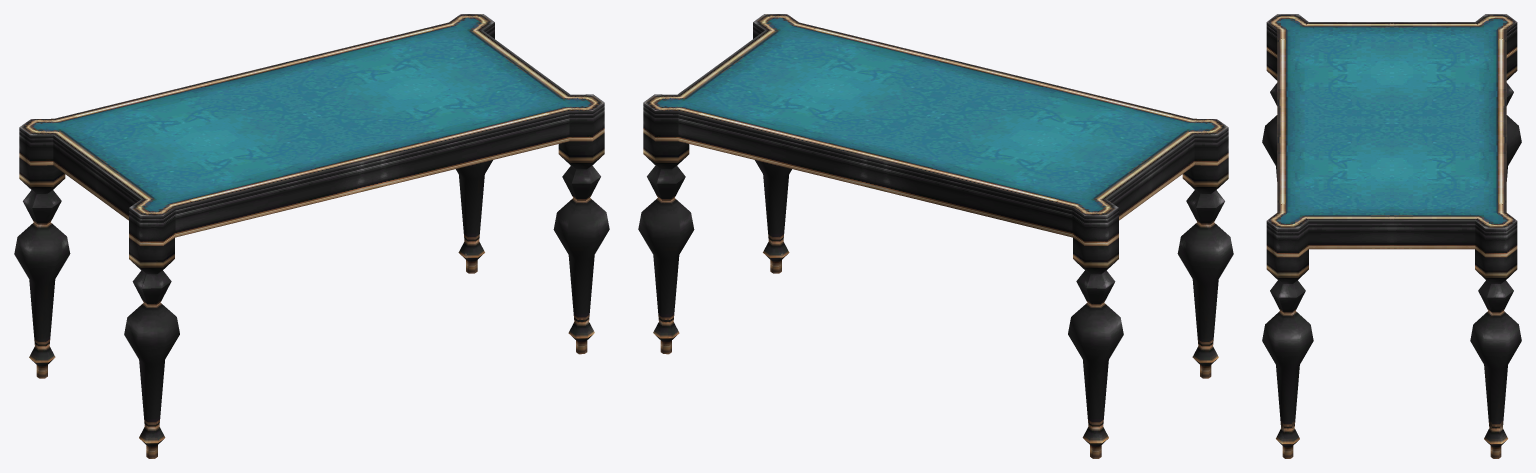
Rendered from furni_0200306_02.FBX.
3 views of the same model, side by side, from view 1: azimuth 30°, elevation 25°; view 2: azimuth 150°, elevation 25°; view 3: azimuth 270°, elevation 25° (orthographic). The views are drawn at different scales.
Visible parts, largest first — view 1: furni_0200306_02; view 2: furni_0200306_02; view 3: furni_0200306_02.
Part boxes in pixels (left/top/right/bottom): furni_0200306_02: left=14, top=14, right=609, bottom=458; furni_0200306_02: left=638, top=14, right=1233, bottom=458; furni_0200306_02: left=1262, top=14, right=1521, bottom=458.
Bounding box in the file's own units: 158 × 79.93 × 79.66.
1 material, 1 textured.
